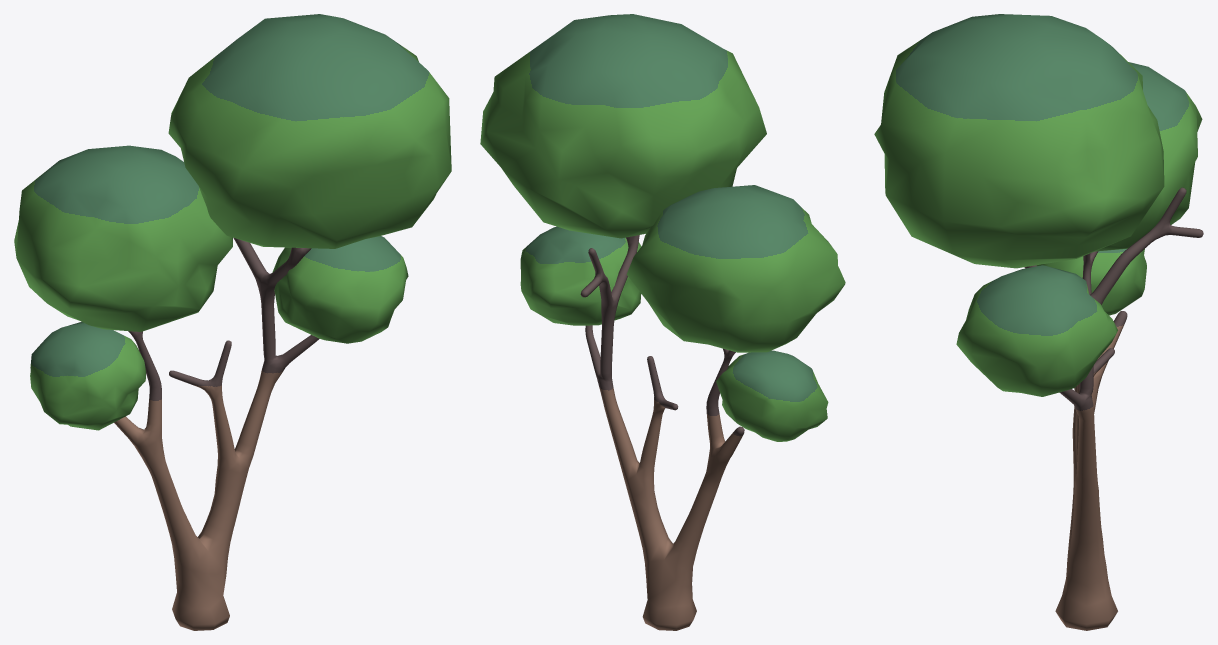
The model's file is arbol_03.fbx.
The picture shows the model from 3 angles, left to right: view 1: azimuth 30°, elevation 25°; view 2: azimuth 150°, elevation 25°; view 3: azimuth 270°, elevation 25°; orthographic projection. The views are drawn at different scales.
Parts seen in each view (by area): view 1: arbol_03; view 2: arbol_03; view 3: arbol_03.
Boxes of the visible parts, bbox=[...] form: arbol_03: bbox=[14, 14, 451, 630]; arbol_03: bbox=[480, 14, 845, 630]; arbol_03: bbox=[874, 14, 1203, 630].
Size of the model in its own units: 2025 by 2999 by 1407.
